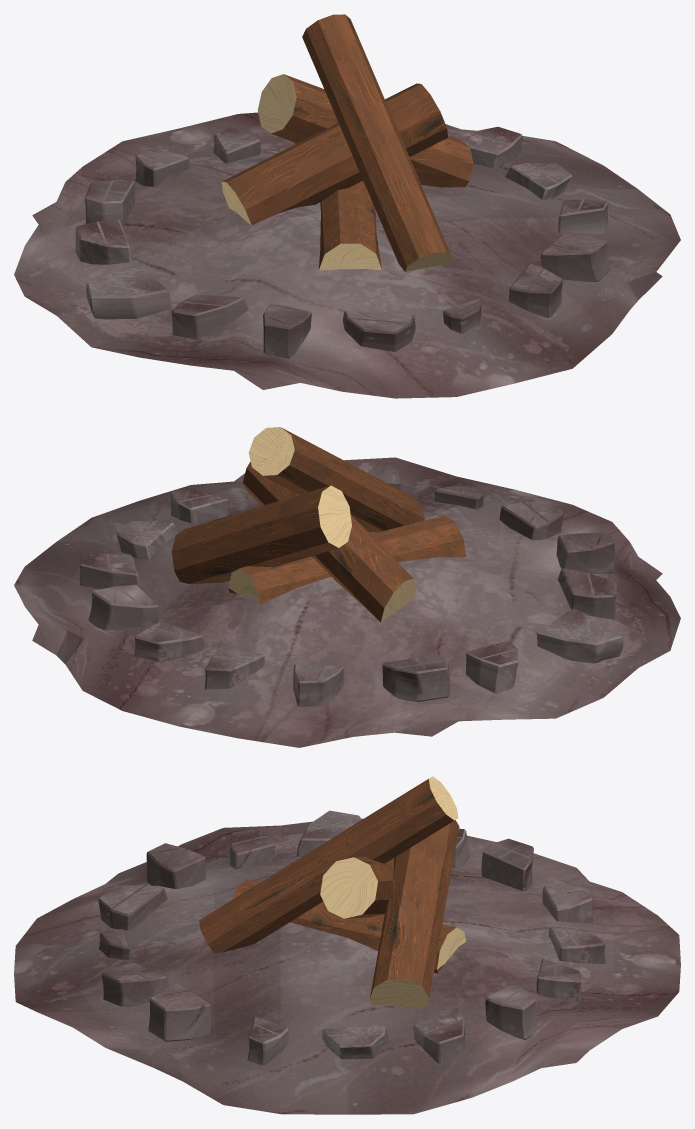
File: campfire_body.glb
The picture shows the model from 3 angles, top to bottom: view 1: azimuth 30°, elevation 25°; view 2: azimuth 150°, elevation 25°; view 3: azimuth 270°, elevation 25°; orthographic projection.
Visible parts, largest first — view 1: polySurface7, polySurface6, polySurface8, polySurface9, polySurface26, polySurface22, polySurface12, polySurface23, polySurface25, polySurface21, polySurface24, polySurface11 (+7 smaller); view 2: polySurface7, polySurface9, polySurface6, polySurface8, polySurface26, polySurface22, polySurface20, polySurface16, polySurface24, polySurface23, polySurface21, polySurface17 (+8 smaller); view 3: polySurface7, polySurface6, polySurface9, polySurface8, polySurface26, polySurface12, polySurface25, polySurface24, polySurface16, polySurface11, polySurface20, polySurface15 (+8 smaller).
Boxes of the visible parts, <box> form: polySurface7: <box>14,112,680,398</box>; polySurface6: <box>302,14,451,271</box>; polySurface8: <box>221,83,447,225</box>; polySurface9: <box>257,74,473,187</box>; polySurface26: <box>318,181,381,270</box>; polySurface22: <box>86,264,171,319</box>; polySurface12: <box>540,231,610,281</box>; polySurface23: <box>171,294,247,339</box>; polySurface25: <box>343,310,415,351</box>; polySurface21: <box>75,219,130,264</box>; polySurface24: <box>263,303,311,358</box>; polySurface11: <box>509,263,562,317</box>; polySurface7: <box>14,457,680,747</box>; polySurface9: <box>171,485,351,583</box>; polySurface6: <box>248,427,424,532</box>; polySurface8: <box>242,461,416,622</box>; polySurface26: <box>228,515,466,604</box>; polySurface22: <box>536,608,623,663</box>; polySurface20: <box>382,654,450,701</box>; polySurface16: <box>88,584,158,630</box>; polySurface24: <box>556,532,614,573</box>; polySurface23: <box>557,568,616,619</box>; polySurface21: <box>466,640,518,693</box>; polySurface17: <box>134,621,204,662</box>; polySurface7: <box>14,818,680,1114</box>; polySurface6: <box>199,776,458,953</box>; polySurface9: <box>369,820,459,1006</box>; polySurface8: <box>320,856,394,918</box>; polySurface26: <box>232,879,466,973</box>; polySurface12: <box>148,983,211,1041</box>; polySurface25: <box>98,885,167,930</box>; polySurface24: <box>146,843,205,888</box>; polySurface16: <box>485,983,538,1039</box>; polySurface11: <box>101,962,168,1006</box>; polySurface20: <box>481,838,533,891</box>; polySurface15: <box>413,1007,464,1063</box>.
Bounding box in the file's own units: 2.4 × 0.8255 × 2.4.
Materials: 4 (4 with a texture image).
